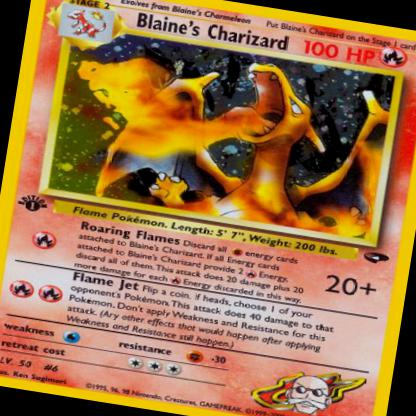Squirtle: (93, 35, 387, 237)
